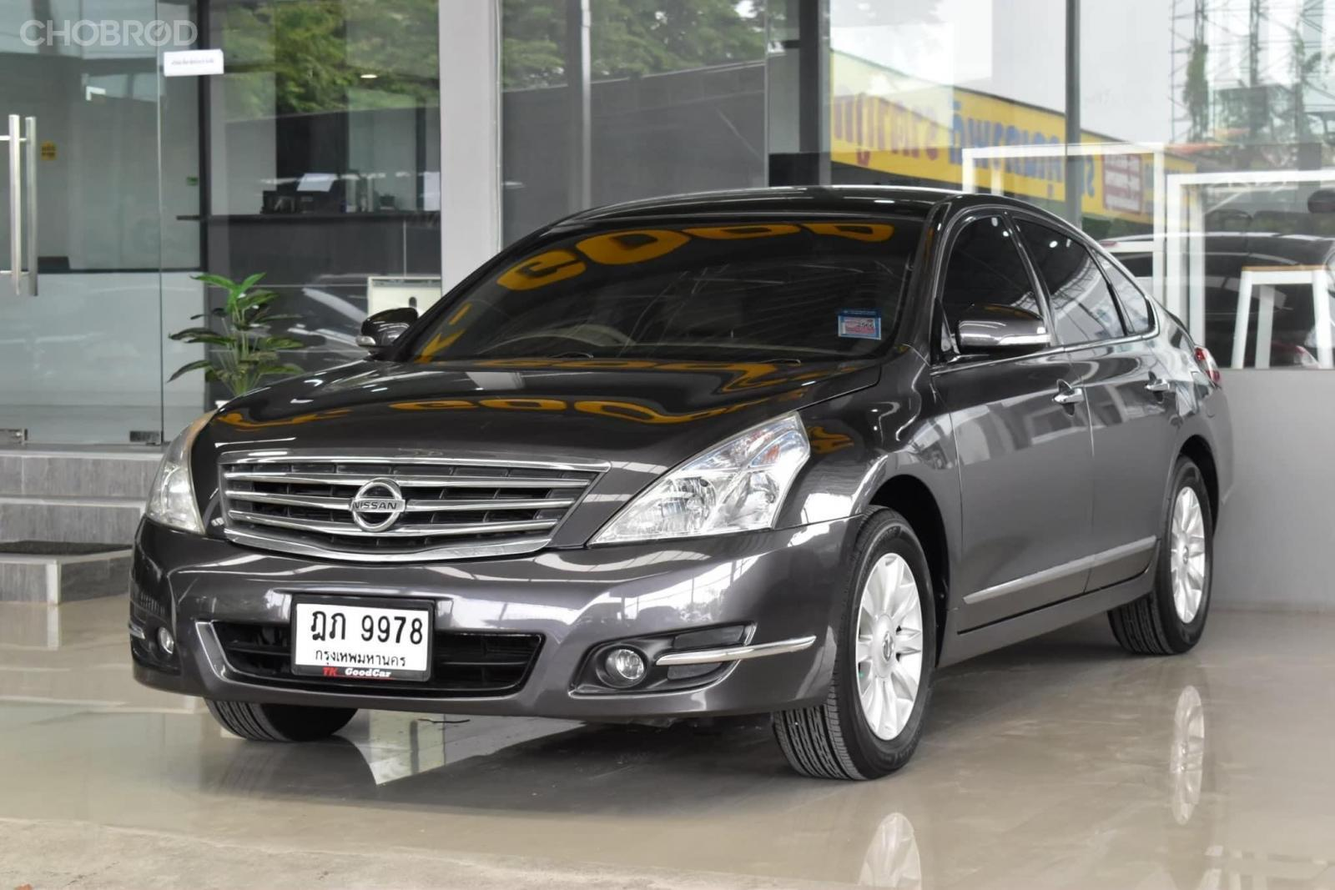license-plate: (267, 578, 453, 705)
